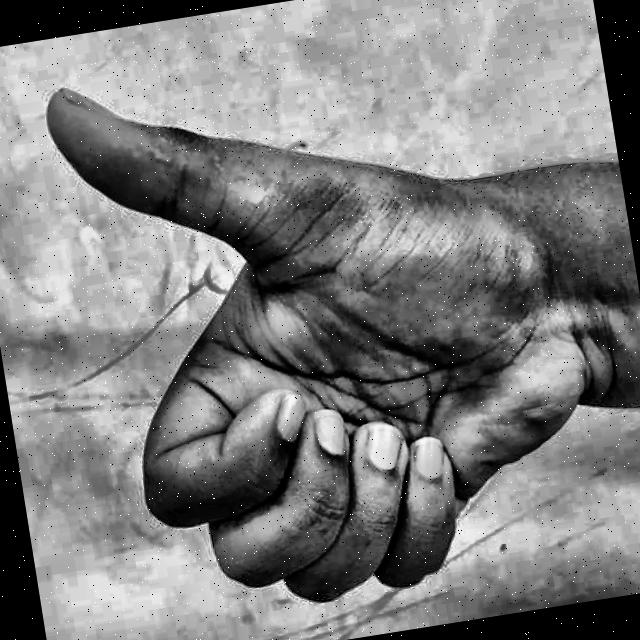Do: (20, 1, 619, 640)
